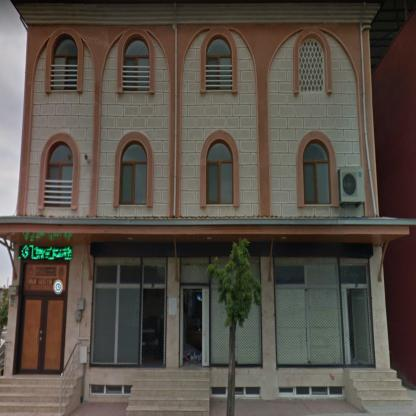door: (12, 260, 70, 373), (180, 283, 210, 366), (140, 286, 165, 365), (352, 284, 374, 364)
window: (276, 264, 367, 365), (90, 262, 165, 366), (180, 257, 230, 365), (45, 144, 73, 207), (206, 140, 233, 204), (303, 143, 330, 204), (120, 143, 147, 204), (236, 306, 261, 366), (52, 37, 78, 90), (299, 38, 324, 92), (206, 39, 231, 91), (124, 41, 149, 91), (278, 388, 344, 396), (90, 386, 132, 393), (236, 388, 260, 396), (210, 388, 226, 397)
